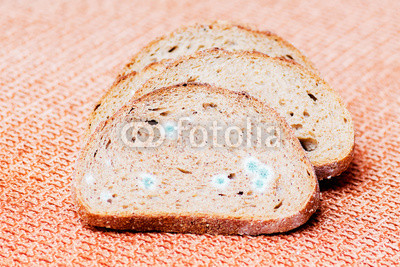slice of bread: (117, 33, 355, 173), (79, 102, 320, 228)
